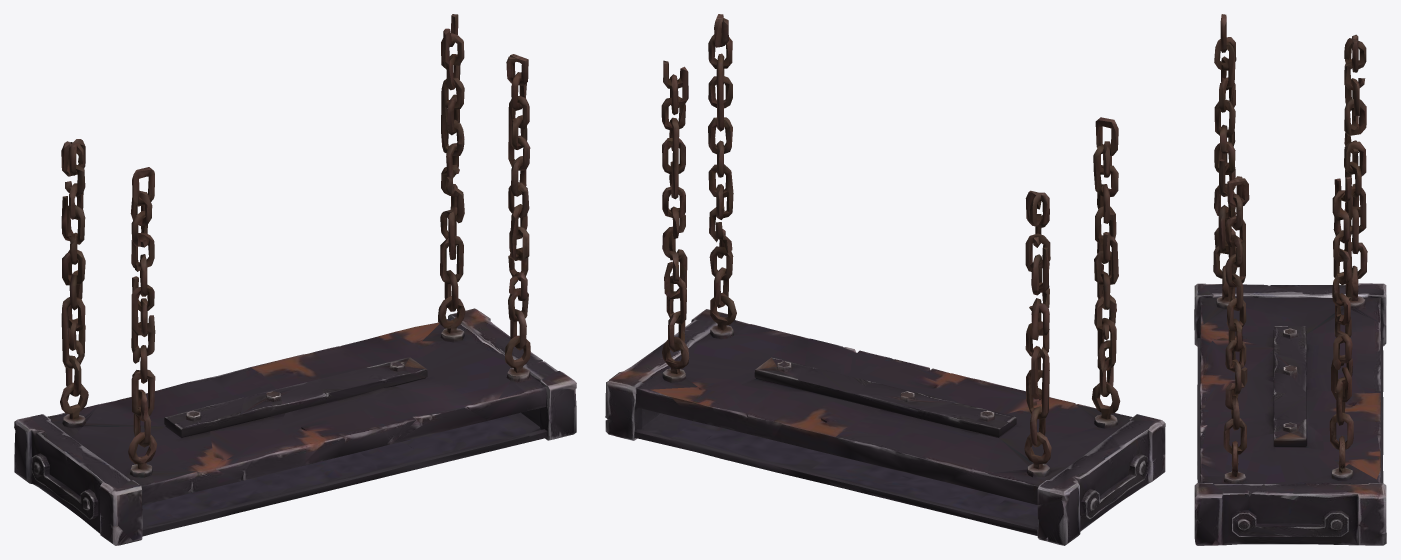
Rendered from grow_lamp_fioletovaya_led_idle.glb.
3 renders of one model, left to right at view 1: azimuth 30°, elevation 25°; view 2: azimuth 150°, elevation 25°; view 3: azimuth 270°, elevation 25°, orthographic. The views are drawn at different scales.
Visible parts, largest first — view 1: tripo_node_a17e29dc-c941-4a20-8baa-0f6e549b8447; view 2: tripo_node_a17e29dc-c941-4a20-8baa-0f6e549b8447; view 3: tripo_node_a17e29dc-c941-4a20-8baa-0f6e549b8447.
Part boxes in pixels (bbox=[...]): tripo_node_a17e29dc-c941-4a20-8baa-0f6e549b8447: bbox=[14, 14, 576, 545]; tripo_node_a17e29dc-c941-4a20-8baa-0f6e549b8447: bbox=[605, 14, 1165, 545]; tripo_node_a17e29dc-c941-4a20-8baa-0f6e549b8447: bbox=[1194, 14, 1386, 545].
Bounding box in the file's own units: 0.7996 × 0.6015 × 0.2989.
1 material, 1 textured.
